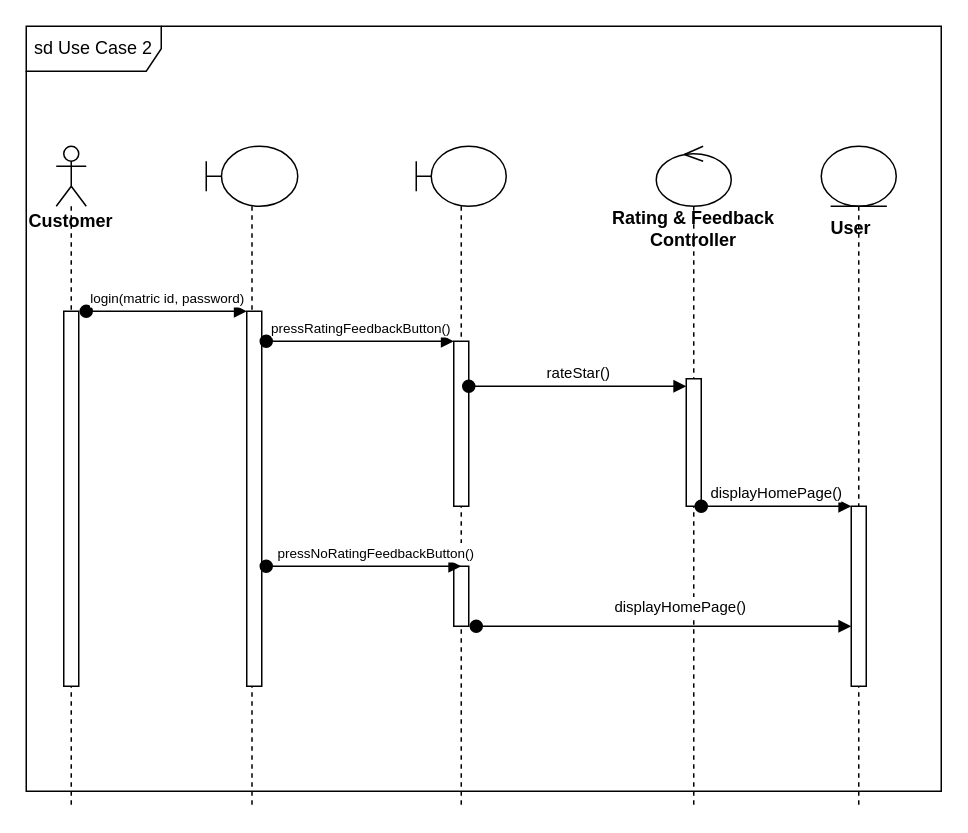
This 968x833 diagram has some shape labels left out. Each missing label, with the box of its shape:
Main Page: (205, 145, 298, 806)
Rating & Feedback Page: (415, 145, 506, 806)
